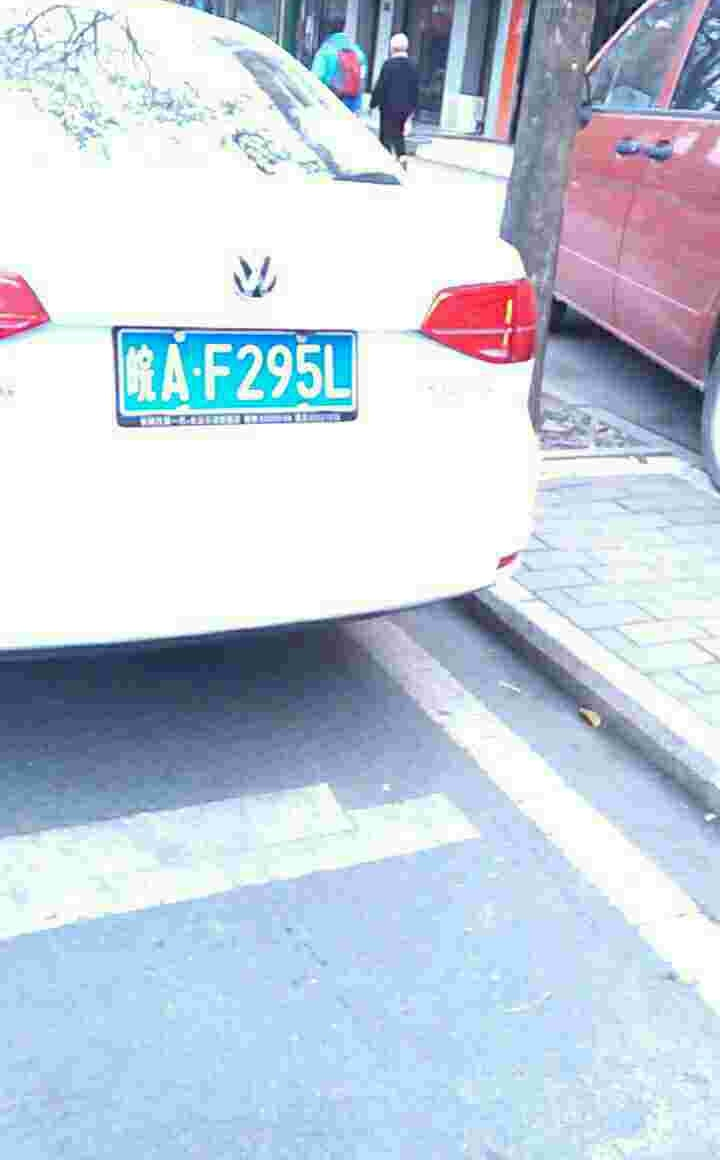license_plate: (121, 328, 370, 420)
